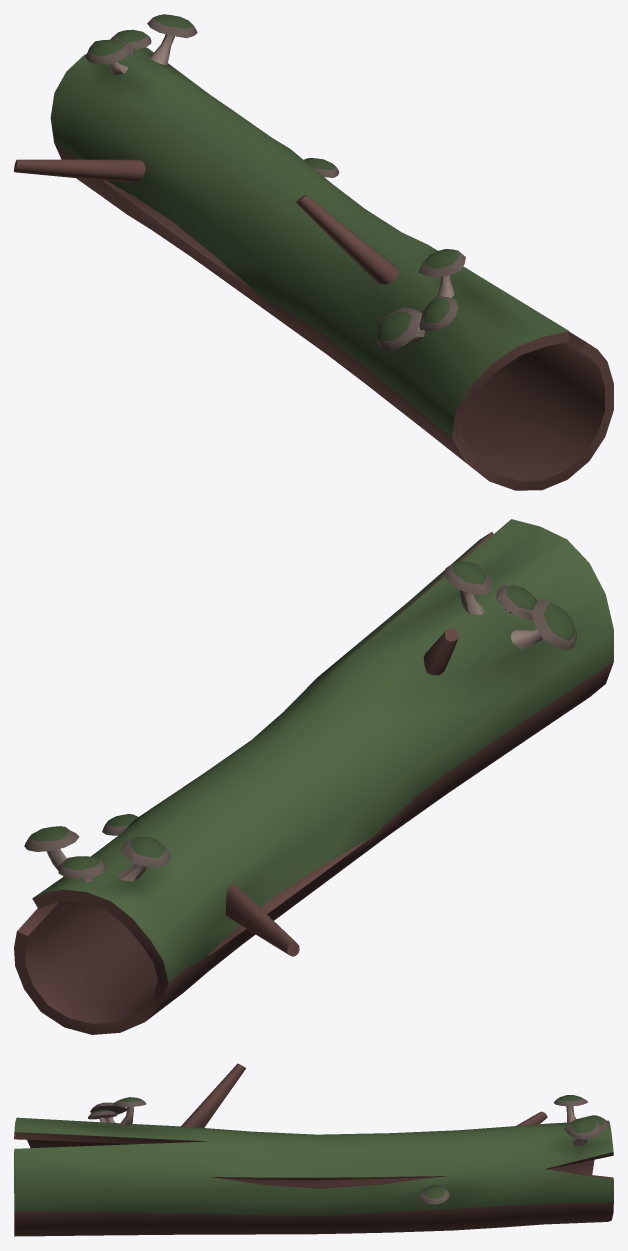
Rendered from nat_log_moss_1.glb.
The picture shows the model from 3 angles, top to bottom: view 1: azimuth 30°, elevation 25°; view 2: azimuth 150°, elevation 25°; view 3: azimuth 270°, elevation 25°; orthographic projection. The views are drawn at different scales.
Parts seen in each view (by area): view 1: refined; view 2: refined; view 3: refined.
Boxes of the visible parts, left/top/right/bottom form: refined: left=14, top=14, right=613, bottom=490; refined: left=14, top=519, right=613, bottom=1034; refined: left=14, top=1063, right=613, bottom=1236.
Size of the model in its own units: 1.04 by 0.8 by 3.1.
